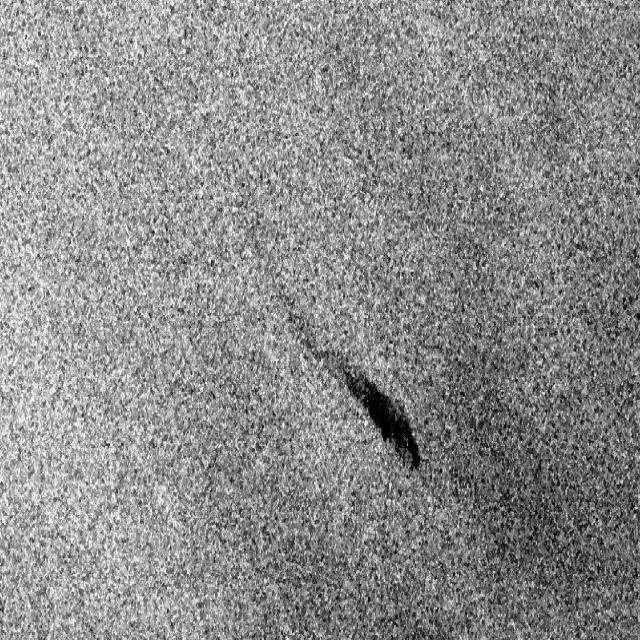oil-spill: (277, 289, 428, 484)
